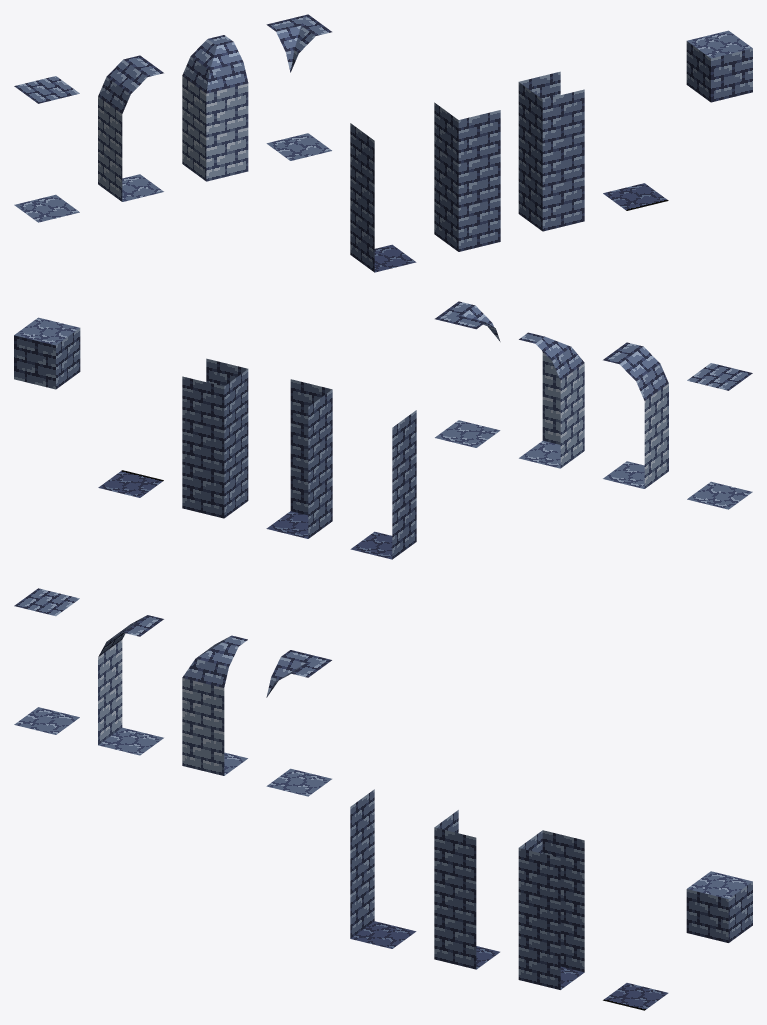
Rendered from Celling-Tiles.glb.
The picture shows the model from 3 angles, top to bottom: view 1: azimuth 30°, elevation 25°; view 2: azimuth 150°, elevation 25°; view 3: azimuth 330°, elevation 25°; orthographic projection.
Parts seen in each view (by area): view 1: Hole-U-Cornor-col, Hole-Cornor-col, Wall-Cornor-col, Wall-Side-col, Hole-Side-col., platform-col, Wall-Outer-col., Ground-col, celling-col, Hole-Ground-col; view 2: Hole-U-Cornor-col, Hole-Cornor-col, Wall-Cornor-col, Wall-Side-col, Hole-Side-col., platform-col, Wall-Outer-col., Ground-col, celling-col, Hole-Ground-col; view 3: Hole-U-Cornor-col, Hole-Cornor-col, Wall-Cornor-col, Hole-Side-col., platform-col, Wall-Side-col, Wall-Outer-col., celling-col, Hole-Ground-col, Ground-col.
Part boxes in pixels (bbox=[...]): Hole-U-Cornor-col: bbox=[518, 71, 584, 231]; Hole-Cornor-col: bbox=[434, 102, 500, 251]; Wall-Cornor-col: bbox=[182, 35, 248, 181]; Wall-Side-col: bbox=[98, 55, 163, 201]; Hole-Side-col.: bbox=[350, 123, 416, 272]; platform-col: bbox=[686, 30, 752, 102]; Wall-Outer-col.: bbox=[266, 14, 331, 160]; Ground-col: bbox=[14, 194, 79, 222]; celling-col: bbox=[14, 76, 79, 103]; Hole-Ground-col: bbox=[603, 183, 668, 210]; Hole-U-Cornor-col: bbox=[182, 358, 248, 518]; Hole-Cornor-col: bbox=[266, 379, 332, 538]; Wall-Cornor-col: bbox=[519, 332, 584, 468]; Wall-Side-col: bbox=[603, 342, 668, 488]; Hole-Side-col.: bbox=[350, 410, 416, 559]; platform-col: bbox=[14, 317, 80, 389]; Wall-Outer-col.: bbox=[435, 301, 500, 447]; Ground-col: bbox=[687, 481, 752, 509]; celling-col: bbox=[687, 363, 752, 390]; Hole-Ground-col: bbox=[98, 470, 163, 497]; Hole-U-Cornor-col: bbox=[518, 830, 584, 989]; Hole-Cornor-col: bbox=[434, 810, 499, 969]; Wall-Cornor-col: bbox=[182, 635, 247, 775]; Hole-Side-col.: bbox=[350, 789, 416, 948]; platform-col: bbox=[686, 871, 752, 942]; Wall-Side-col: bbox=[98, 615, 163, 755]; Wall-Outer-col.: bbox=[266, 650, 331, 796]; celling-col: bbox=[14, 588, 79, 616]; Hole-Ground-col: bbox=[603, 983, 668, 1010]; Ground-col: bbox=[14, 707, 79, 734].
Size of the model in its own units: 17 by 5.7 by 1.
1 material, 1 textured.
